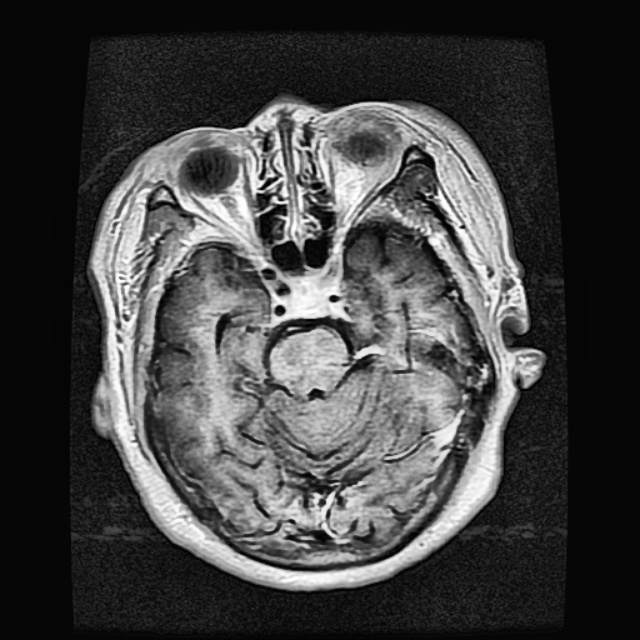Pituitary: (289, 274, 327, 314)
